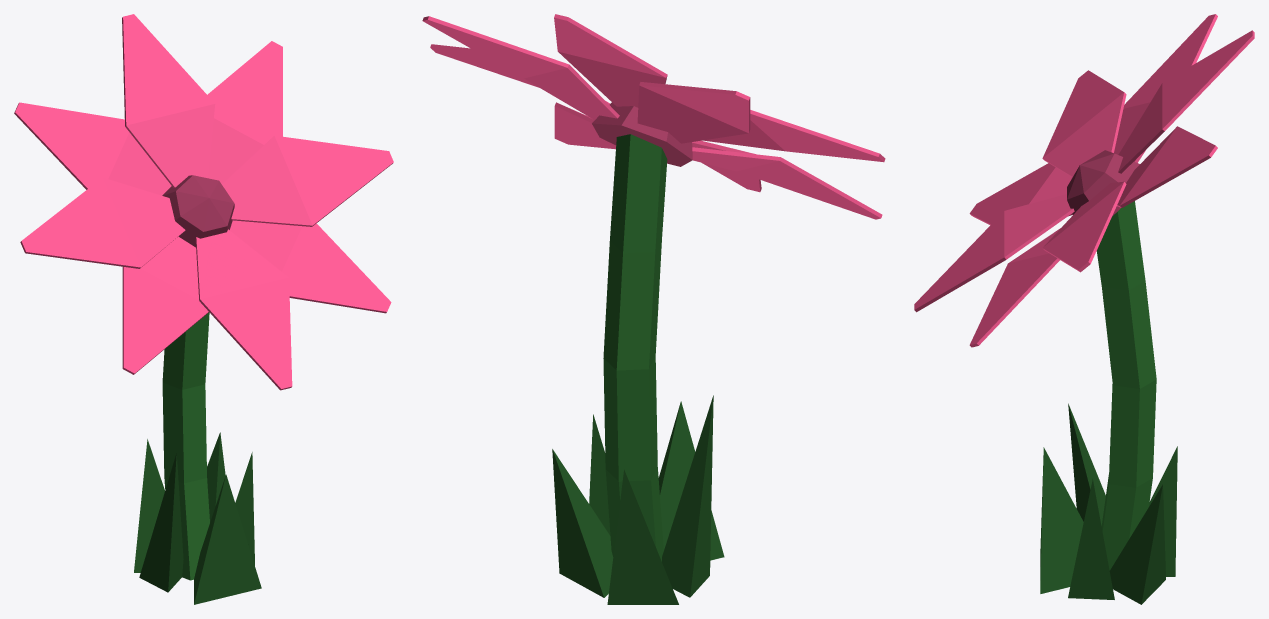
Rendered from Flower_1_Pink.fbx.
3 views of the same model, side by side, from view 1: azimuth 30°, elevation 25°; view 2: azimuth 150°, elevation 25°; view 3: azimuth 270°, elevation 25° (orthographic). The views are drawn at different scales.
Parts seen in each view (by area): view 1: Flower_1_Pink; view 2: Flower_1_Pink; view 3: Flower_1_Pink.
Boxes of the visible parts, box(x1,y1,x2,y2) form: Flower_1_Pink: box(14, 14, 393, 604); Flower_1_Pink: box(422, 14, 885, 604); Flower_1_Pink: box(914, 14, 1254, 604).
Bounding box in the file's own units: 18.76 × 24.83 × 14.08.
